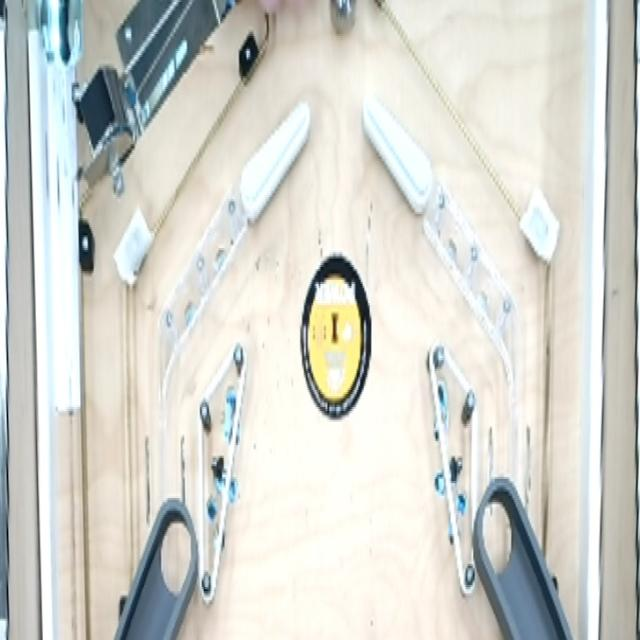ball: (327, 0, 362, 45)
flipper-left: (355, 79, 442, 221)
flipper-right: (238, 90, 314, 239)
